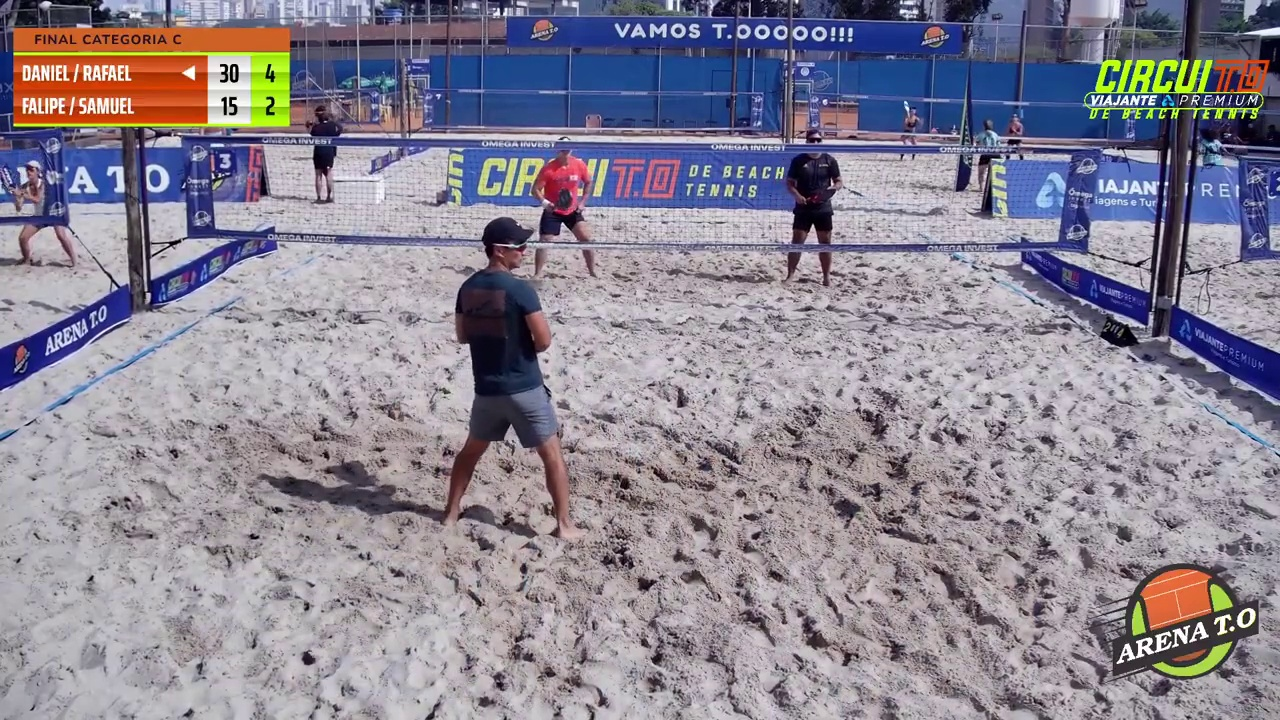court_line: (642, 0, 811, 359), (532, 0, 669, 421)
